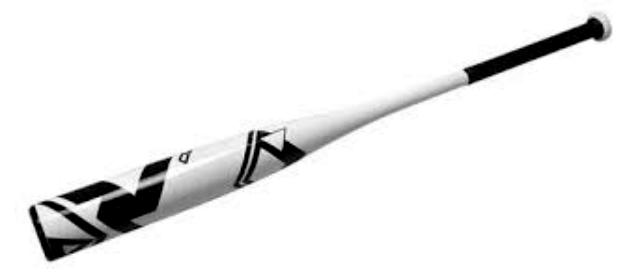baseball bat: (25, 13, 610, 262)
